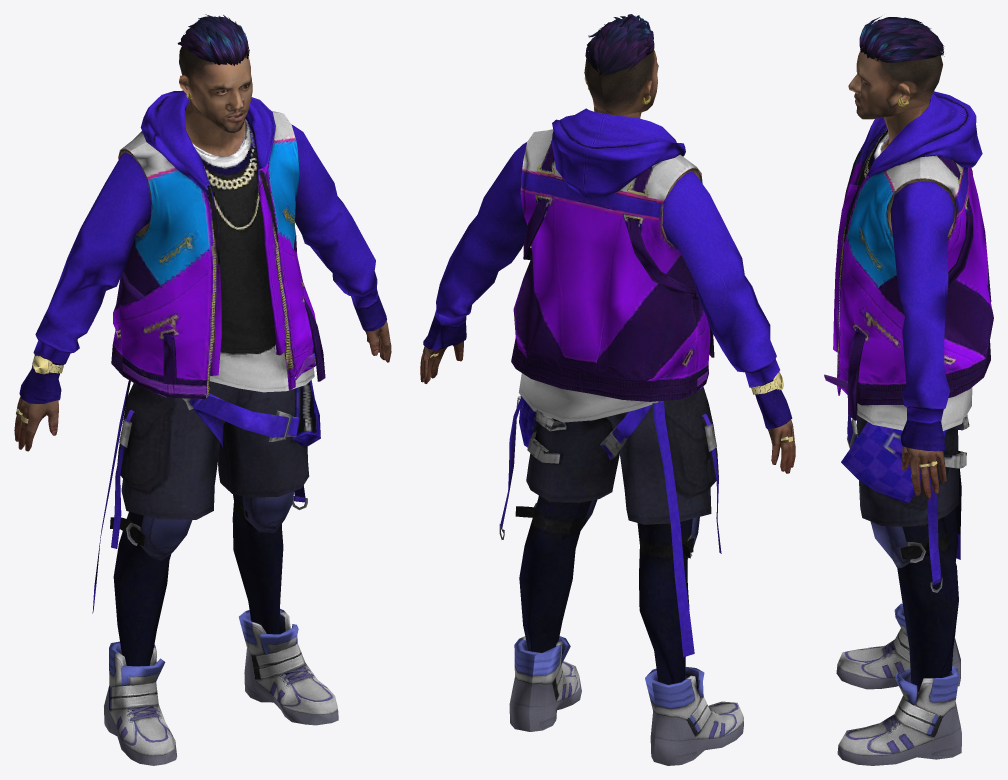
The model's file is traprap.fbx.
The picture shows the model from 3 angles, left to right: view 1: azimuth 30°, elevation 25°; view 2: azimuth 150°, elevation 25°; view 3: azimuth 270°, elevation 25°; orthographic projection.
Parts seen in each view (by area): view 1: Object_5, Object_7, Object_4, Object_2, Object_6, Object_3; view 2: Object_5, Object_7, Object_4, Object_2, Object_3, Object_6; view 3: Object_5, Object_7, Object_4, Object_2, Object_3, Object_6.
Boxes of the visible parts, bbox=[...] form: Object_5: bbox=[16, 90, 386, 423]; Object_7: bbox=[92, 380, 320, 666]; Object_4: bbox=[104, 92, 338, 765]; Object_2: bbox=[179, 41, 252, 132]; Object_6: bbox=[14, 98, 391, 686]; Object_3: bbox=[177, 14, 249, 65]; Object_5: bbox=[422, 108, 792, 443]; Object_7: bbox=[499, 386, 721, 684]; Object_4: bbox=[509, 88, 743, 765]; Object_2: bbox=[584, 49, 658, 114]; Object_3: bbox=[585, 14, 654, 76]; Object_6: bbox=[420, 106, 795, 686]; Object_5: bbox=[824, 91, 993, 467]; Object_7: bbox=[841, 414, 969, 692]; Object_4: bbox=[836, 96, 961, 765]; Object_2: bbox=[848, 47, 942, 119]; Object_3: bbox=[859, 16, 944, 62]; Object_6: bbox=[882, 100, 946, 693].
Bounding box in the file's own units: 103 × 188 × 41.47.
Materials: 6 (6 with a texture image).
